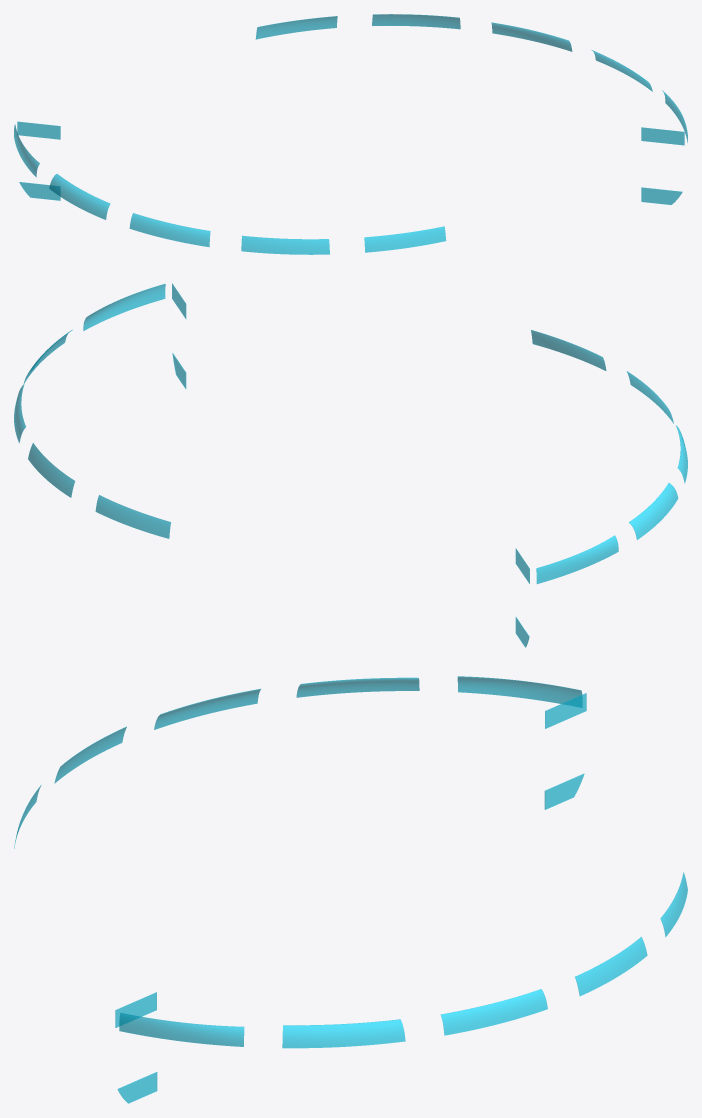
The model's file is Glass Railings.fbx.
3 renders of one model, top to bottom at view 1: azimuth 30°, elevation 25°; view 2: azimuth 150°, elevation 25°; view 3: azimuth 270°, elevation 25°, orthographic. The views are drawn at different scales.
Parts seen in each view (by area): view 1: Railings; view 2: Railings; view 3: Railings.
Boxes of the visible parts, box(x1,y1,x2,y2) form: Railings: box(14, 14, 687, 254); Railings: box(14, 283, 687, 647); Railings: box(14, 676, 687, 1103).
Size of the model in its own units: 3410 by 440 by 2718.
